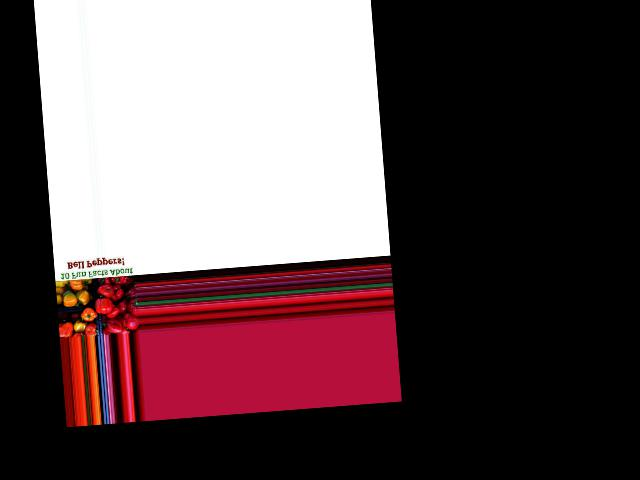bell_pepper: (106, 273, 128, 288)
